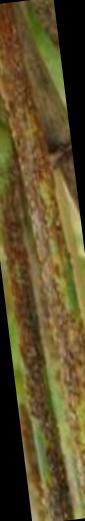Wheat: (1, 5, 61, 176), (2, 188, 79, 303), (16, 309, 85, 405), (26, 414, 85, 516)
